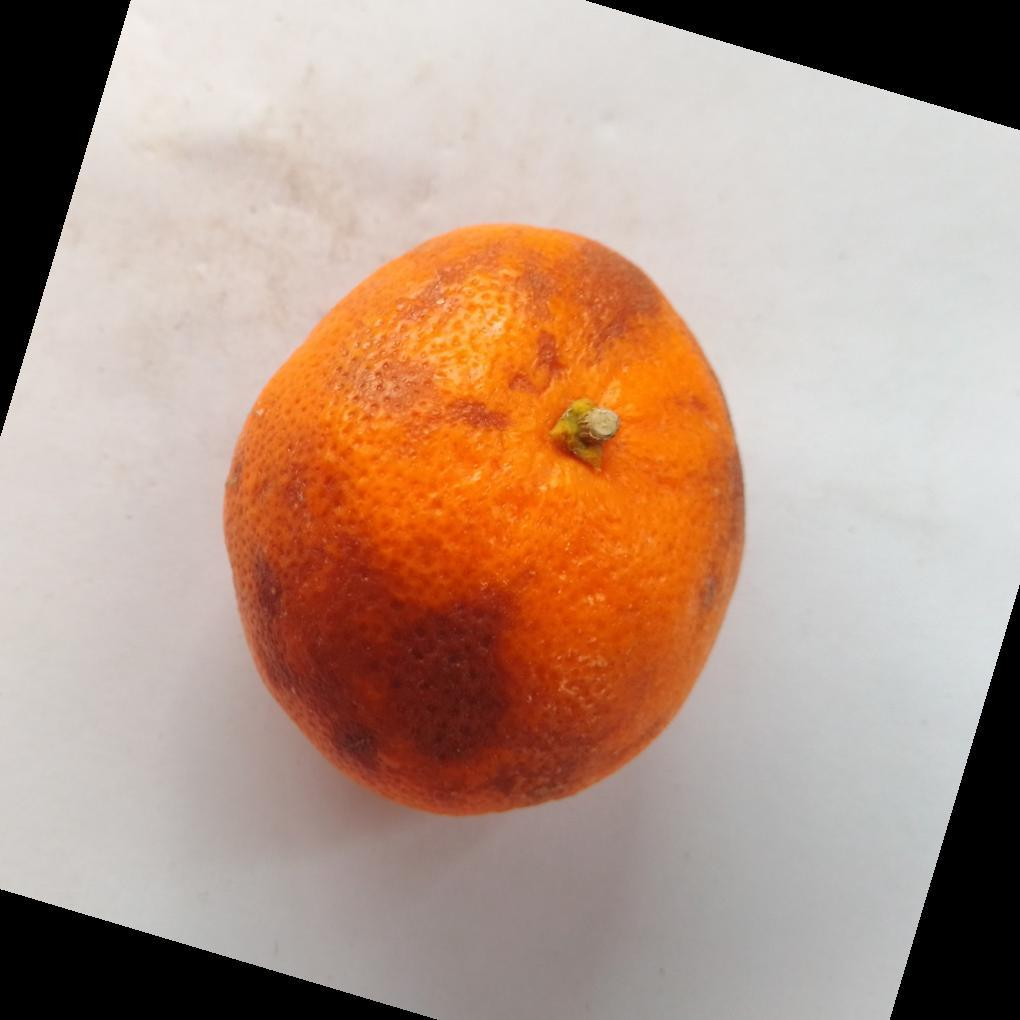FreshOrange: (222, 224, 748, 822)
